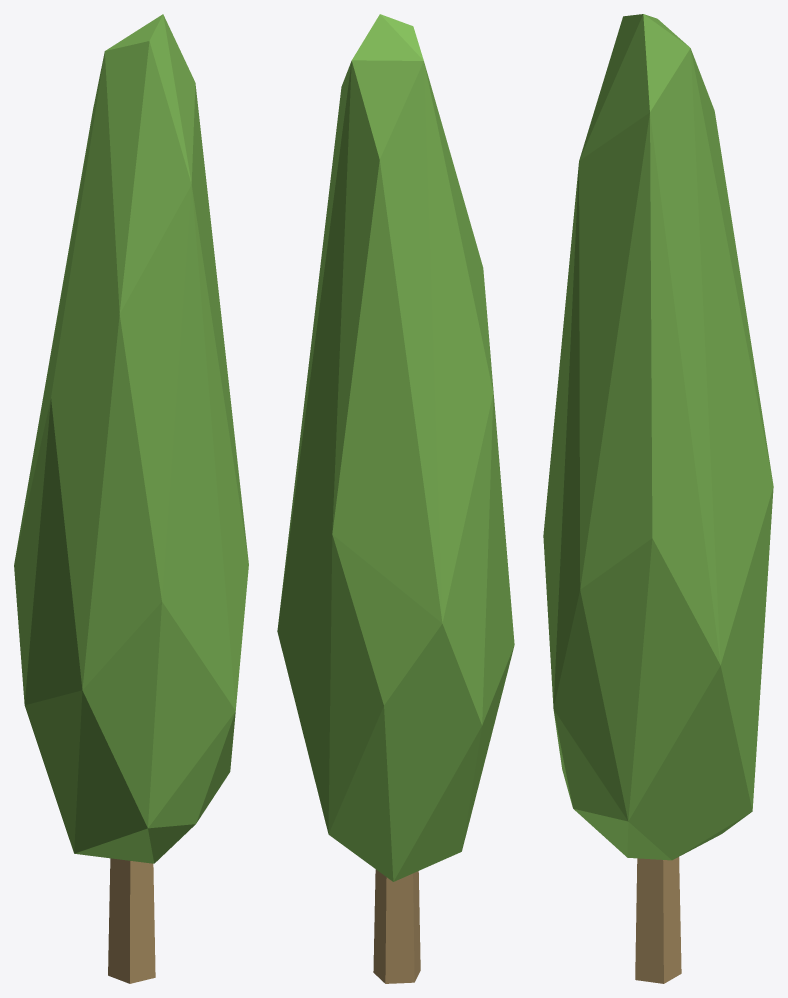
Rendered from Thuja_Tree_m_BT_04.fbx.
The picture shows the model from 3 angles, left to right: view 1: azimuth 30°, elevation 25°; view 2: azimuth 150°, elevation 25°; view 3: azimuth 270°, elevation 25°; orthographic projection. The views are drawn at different scales.
Parts seen in each view (by area): view 1: Thuja_Tree_m_BT_04; view 2: Thuja_Tree_m_BT_04; view 3: Thuja_Tree_m_BT_04.
Part boxes in pixels (<box>): Thuja_Tree_m_BT_04: <box>14,14,248,983</box>; Thuja_Tree_m_BT_04: <box>277,14,514,983</box>; Thuja_Tree_m_BT_04: <box>543,14,773,983</box>.
Bounding box in the file's own units: 105 × 495 × 106.
